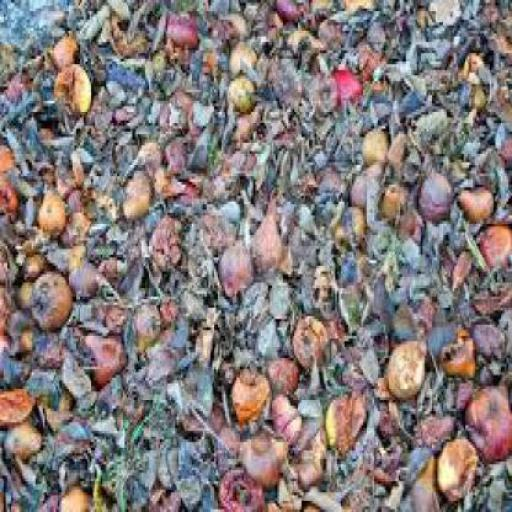biodegradable: (0, 0, 511, 510), (464, 384, 510, 462), (78, 322, 129, 386), (234, 426, 284, 484), (322, 386, 365, 451), (26, 268, 71, 330), (228, 360, 270, 426), (436, 434, 478, 498), (384, 336, 426, 400), (249, 190, 281, 274), (398, 453, 445, 509), (218, 462, 268, 510), (1, 403, 43, 459), (35, 370, 75, 428), (216, 224, 249, 294), (284, 425, 322, 482), (177, 386, 222, 431), (460, 42, 488, 109), (415, 168, 450, 221), (441, 327, 477, 378), (52, 62, 87, 112), (356, 37, 385, 95), (293, 310, 324, 364), (66, 255, 104, 299), (128, 300, 160, 352), (33, 188, 65, 238), (314, 8, 352, 50), (148, 159, 186, 199), (348, 157, 384, 199), (0, 384, 36, 426), (477, 221, 510, 266), (330, 61, 363, 106), (271, 391, 300, 442), (307, 56, 335, 106), (141, 478, 186, 509), (164, 8, 197, 50), (123, 165, 149, 218), (52, 478, 96, 509), (223, 70, 253, 115), (452, 182, 490, 216), (199, 204, 231, 244), (335, 208, 365, 250), (264, 352, 298, 389), (13, 218, 49, 252), (216, 6, 249, 42), (160, 129, 190, 168), (358, 123, 387, 163), (413, 414, 452, 443), (48, 31, 76, 70), (4, 64, 30, 106), (132, 134, 162, 169), (60, 210, 92, 240), (227, 36, 255, 70), (305, 0, 332, 34), (378, 176, 402, 213), (385, 129, 406, 168), (97, 248, 127, 274), (274, 475, 296, 510), (211, 420, 235, 450), (273, 0, 305, 22), (0, 286, 14, 336), (20, 246, 42, 277), (0, 240, 14, 286), (0, 173, 17, 207), (11, 326, 33, 352), (340, 0, 373, 15), (0, 137, 14, 171), (266, 492, 283, 510), (296, 498, 322, 509), (35, 123, 52, 134)
